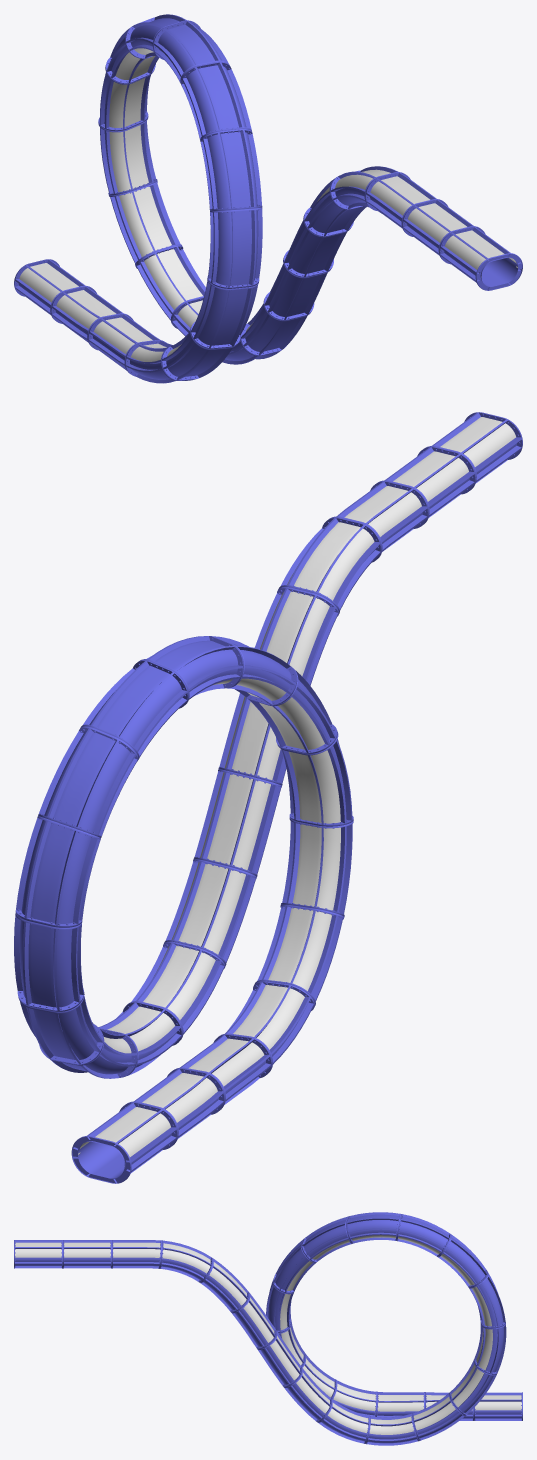
Rendered from Wasserrutsche_Looping(1).fbx.
3 renders of one model, top to bottom at view 1: azimuth 30°, elevation 25°; view 2: azimuth 150°, elevation 25°; view 3: azimuth 270°, elevation 25°, orthographic. The views are drawn at different scales.
Parts seen in each view (by area): view 1: Wasserrutsche_Looping; view 2: Wasserrutsche_Looping; view 3: Wasserrutsche_Looping.
Boxes of the visible parts, x1,y1,x2,y2 form: Wasserrutsche_Looping: [14, 14, 522, 383]; Wasserrutsche_Looping: [14, 412, 522, 1183]; Wasserrutsche_Looping: [14, 1212, 522, 1445].
Bounding box in the file's own units: 963 × 2451 × 5200.
